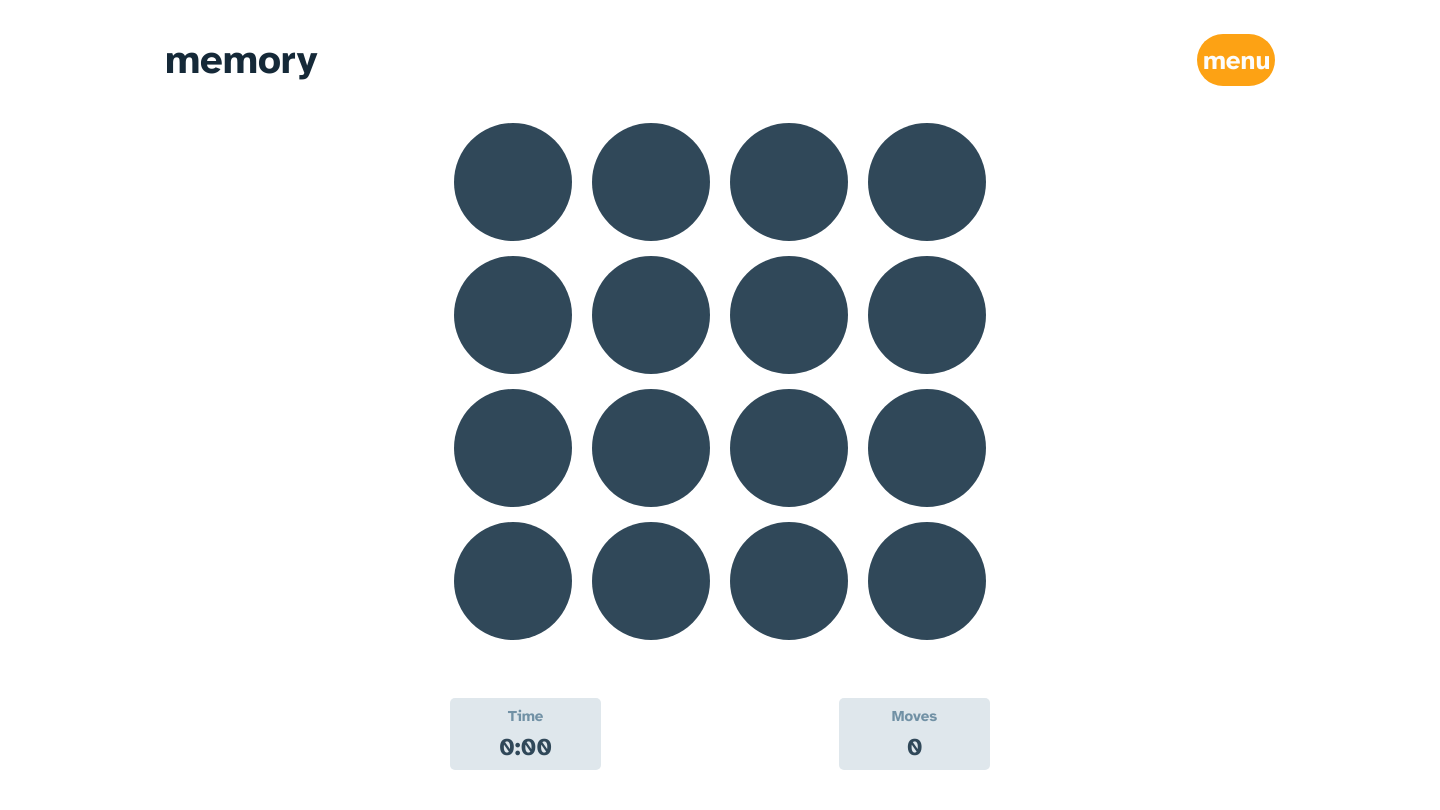
it: solo game small screen › should show and close Menu when clicked outside
Click the button "menu" at (1236, 60), box [1197, 34, 1275, 86]
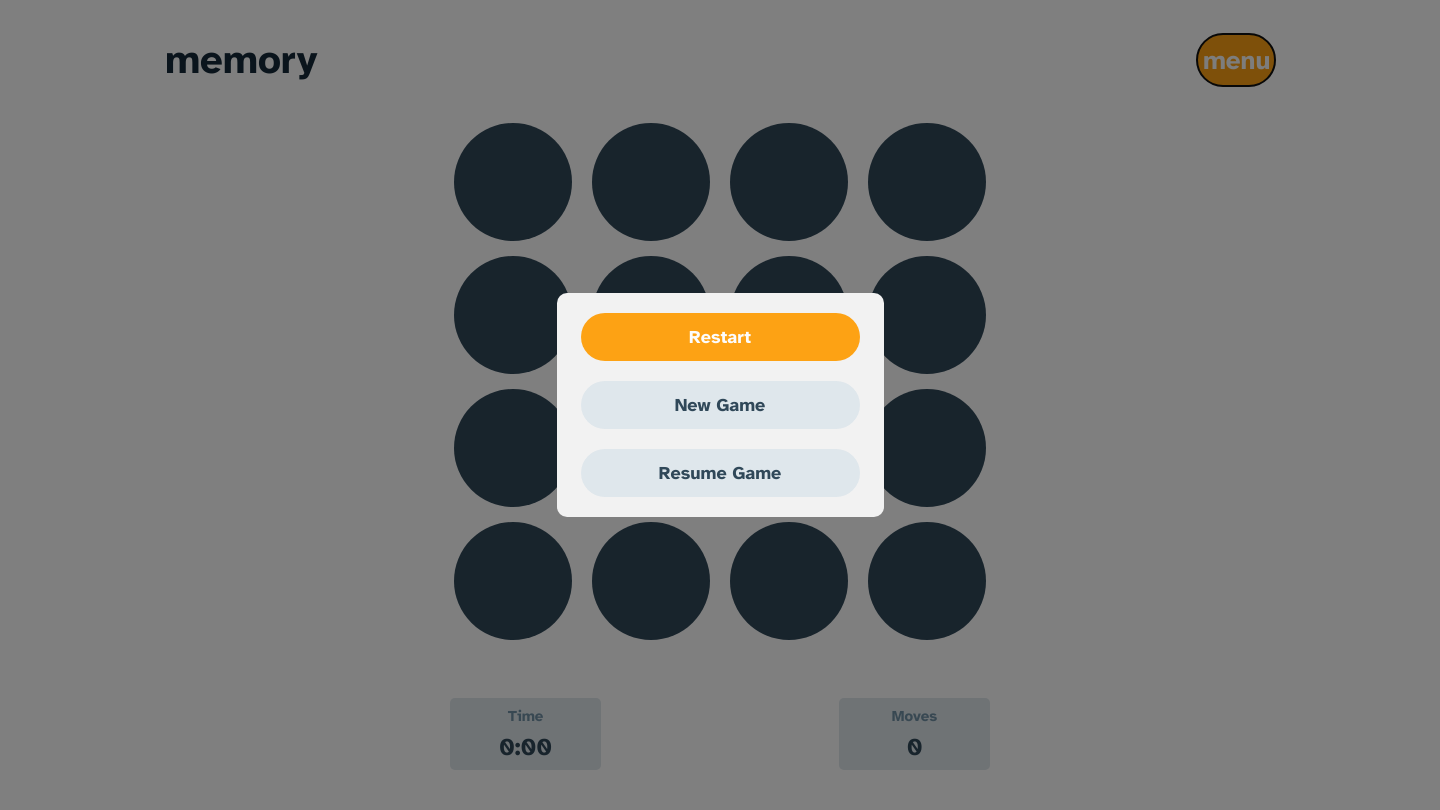
Click the dialog at (86, 405), box [0, 0, 1439, 809]
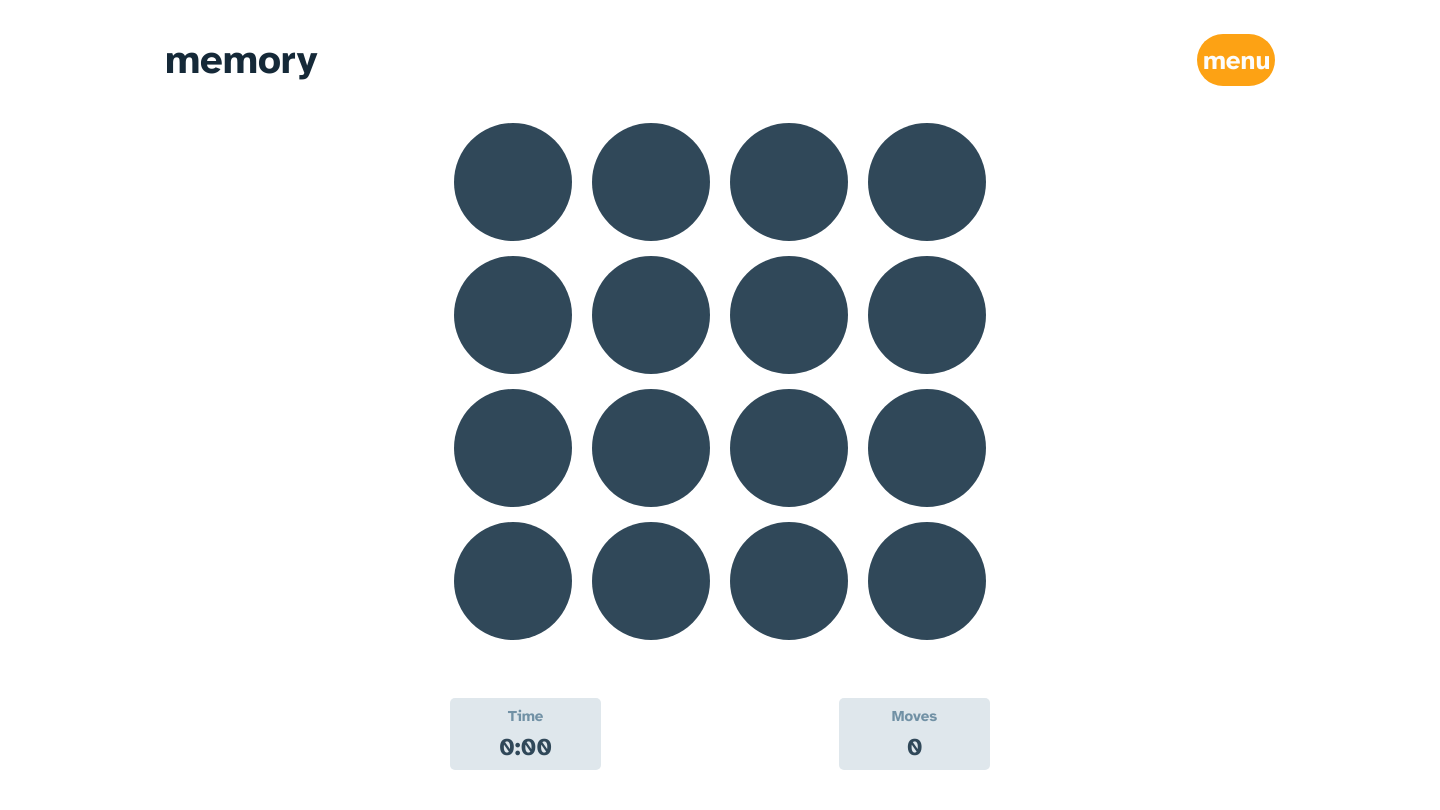
Check: the dialog is gone
